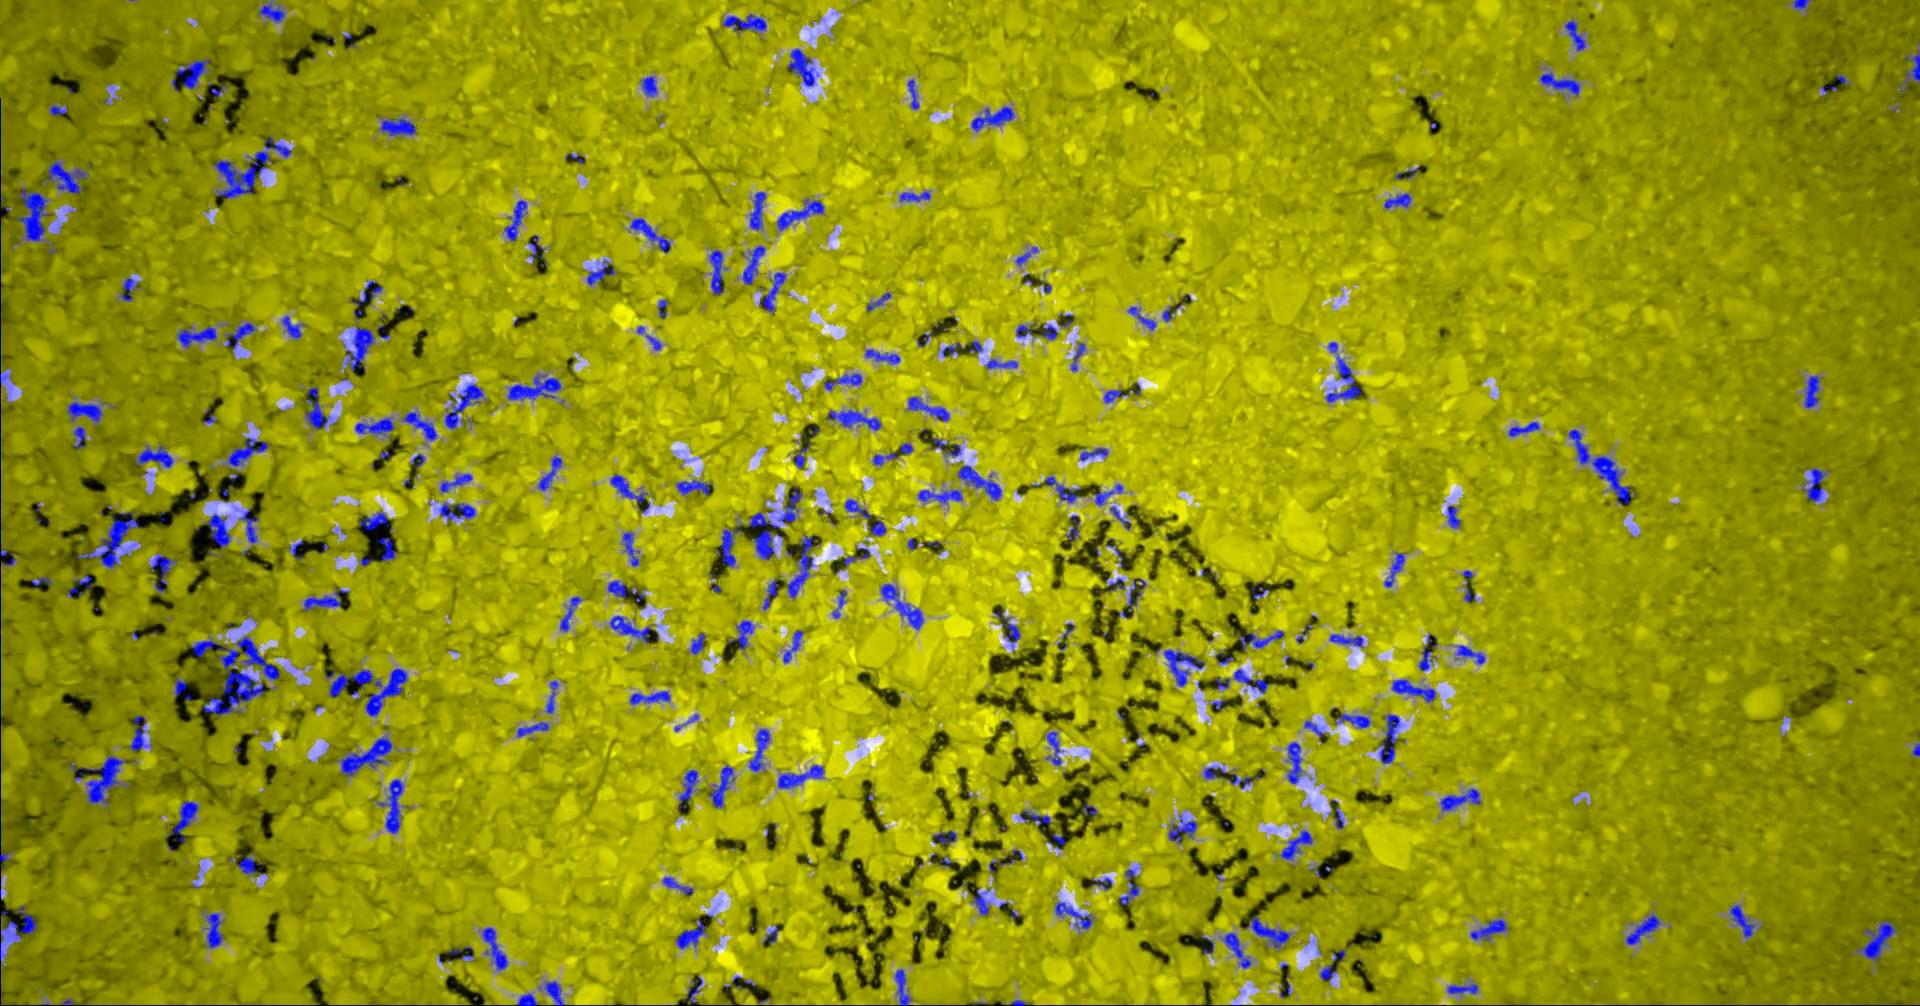ant: (1567, 429, 1633, 504), (77, 511, 138, 567), (70, 754, 124, 803), (0, 904, 36, 970), (337, 735, 391, 775), (786, 535, 819, 598), (880, 583, 923, 629), (236, 636, 279, 680), (17, 187, 50, 240), (444, 384, 483, 428), (1324, 354, 1360, 401), (1857, 920, 1895, 962), (1163, 649, 1204, 686), (776, 198, 823, 230), (957, 465, 1001, 499), (1246, 915, 1290, 948), (377, 779, 403, 833), (629, 218, 670, 251), (749, 512, 778, 559), (507, 373, 560, 399), (165, 801, 198, 842), (345, 326, 375, 371), (171, 58, 210, 91), (46, 161, 85, 193), (350, 279, 381, 319), (227, 437, 268, 466), (825, 409, 880, 431), (610, 615, 651, 641), (777, 763, 823, 788), (970, 105, 1013, 131), (716, 523, 742, 567), (709, 765, 734, 808), (481, 927, 507, 970), (610, 474, 648, 502), (1625, 913, 1660, 944), (759, 272, 785, 312), (1055, 901, 1092, 929), (787, 48, 814, 86), (1390, 680, 1435, 702), (907, 396, 949, 420), (1379, 714, 1399, 763), (1044, 476, 1083, 502), (305, 386, 328, 429), (503, 199, 526, 241), (1539, 71, 1578, 95), (1223, 932, 1250, 968), (993, 610, 1018, 647), (1239, 630, 1283, 652), (748, 728, 770, 771), (1440, 788, 1481, 810), (1280, 829, 1312, 859), (403, 412, 436, 439), (303, 589, 348, 610), (742, 245, 764, 285), (777, 486, 801, 523), (206, 513, 230, 550), (135, 445, 173, 467), (1117, 579, 1140, 617), (1233, 668, 1269, 692), (676, 918, 705, 948), (225, 323, 255, 351), (537, 456, 561, 490), (1898, 52, 1919, 93), (175, 326, 216, 347), (150, 555, 173, 591), (559, 596, 582, 631), (128, 715, 151, 751), (1469, 920, 1509, 940), (1730, 904, 1754, 937), (988, 848, 1022, 871), (1168, 815, 1196, 843), (728, 620, 754, 649), (678, 768, 697, 809), (723, 13, 766, 30), (66, 401, 102, 423), (709, 249, 725, 295), (1802, 467, 1825, 500), (585, 259, 615, 285), (354, 417, 394, 434), (1092, 483, 1123, 506), (1384, 553, 1404, 587), (1119, 869, 1138, 904), (204, 912, 223, 948), (239, 508, 258, 542), (782, 630, 803, 662), (1128, 306, 1156, 329), (917, 489, 963, 503), (380, 117, 415, 135), (439, 502, 474, 520), (824, 373, 861, 390), (676, 479, 712, 495), (439, 473, 471, 492), (749, 191, 764, 230), (622, 531, 639, 567), (894, 969, 910, 1005), (629, 690, 670, 704), (1288, 741, 1302, 782), (358, 511, 389, 530), (662, 876, 692, 895), (258, 0, 284, 22), (1564, 20, 1583, 50), (1455, 645, 1484, 664), (1045, 730, 1060, 765), (842, 546, 869, 565), (762, 578, 778, 608), (863, 349, 899, 363), (237, 856, 265, 874), (281, 315, 302, 338), (1109, 506, 1130, 528), (119, 276, 138, 301), (1803, 375, 1818, 406), (844, 499, 870, 518), (1018, 810, 1050, 826), (686, 976, 702, 1005), (1335, 713, 1369, 727), (1509, 420, 1539, 436), (527, 234, 543, 262), (516, 721, 549, 735), (1228, 774, 1261, 788), (866, 292, 890, 311), (543, 981, 563, 1005), (1015, 246, 1037, 265), (378, 536, 396, 560), (1462, 570, 1476, 601), (1330, 634, 1363, 647), (1303, 720, 1323, 741), (1383, 193, 1410, 208), (794, 441, 809, 467), (973, 888, 988, 915), (1070, 342, 1084, 370), (546, 680, 557, 713), (1065, 514, 1079, 541), (1079, 447, 1107, 460), (931, 829, 956, 843), (907, 79, 918, 109), (872, 451, 897, 465), (641, 75, 657, 97), (985, 358, 1017, 368), (941, 342, 964, 356), (1332, 800, 1343, 828), (1162, 304, 1180, 321), (1250, 580, 1266, 600), (899, 191, 930, 201), (1446, 983, 1477, 993), (1418, 645, 1431, 669), (1446, 506, 1460, 527), (690, 633, 703, 654), (607, 580, 625, 597), (1015, 324, 1037, 337), (1103, 389, 1126, 401), (72, 426, 85, 448), (1203, 766, 1225, 779), (762, 925, 777, 944), (290, 539, 303, 559), (1319, 964, 1336, 981), (1048, 833, 1065, 848), (207, 83, 226, 97), (72, 574, 91, 588), (1105, 575, 1124, 589), (1091, 876, 1111, 889), (645, 334, 662, 349), (516, 993, 537, 1005), (1041, 324, 1057, 339), (870, 520, 885, 535), (943, 443, 960, 456), (30, 575, 51, 586), (174, 677, 185, 695), (1214, 676, 1229, 688), (50, 105, 67, 116), (968, 340, 982, 353), (410, 453, 424, 466), (1083, 801, 1096, 815), (657, 298, 665, 318), (1792, 0, 1808, 9), (899, 442, 912, 453)
